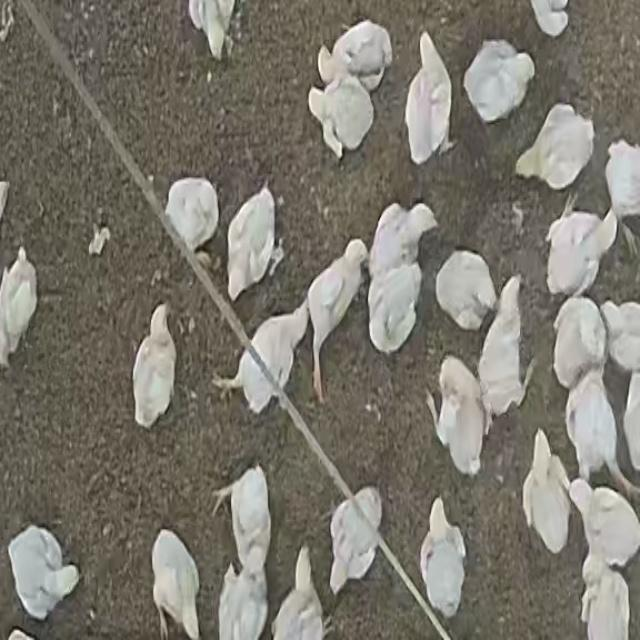chicken: (303, 240, 368, 398), (216, 304, 308, 409), (429, 355, 488, 477), (543, 202, 616, 300), (566, 480, 638, 576), (9, 526, 80, 623), (478, 280, 527, 418), (149, 530, 206, 640), (225, 181, 277, 301), (406, 36, 452, 163), (522, 435, 571, 554), (215, 465, 272, 566), (420, 496, 466, 621), (328, 488, 382, 594), (132, 301, 177, 428), (465, 41, 535, 122), (519, 112, 592, 187), (308, 74, 372, 158), (551, 296, 607, 392), (371, 200, 437, 278), (272, 545, 325, 640), (435, 249, 496, 331), (214, 553, 270, 640), (327, 19, 393, 92), (571, 372, 615, 478), (162, 177, 220, 257), (368, 264, 418, 354), (0, 248, 37, 361), (582, 557, 629, 640), (186, 0, 236, 58), (604, 138, 640, 215), (601, 300, 640, 366), (518, 0, 569, 34)
